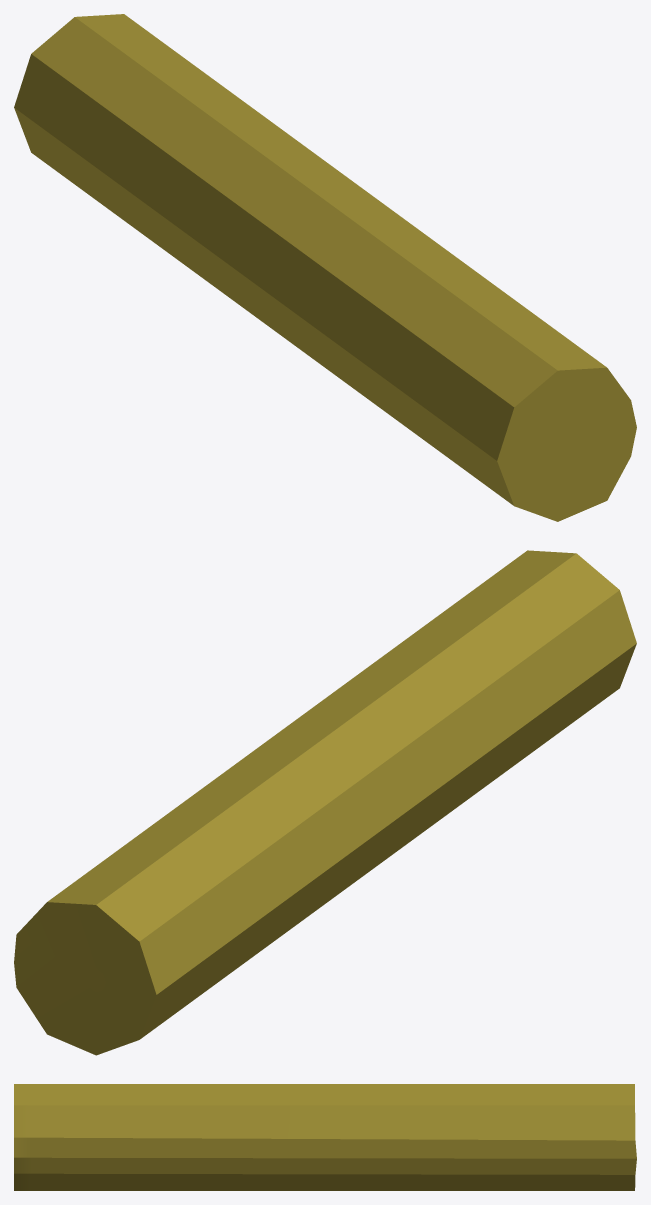
Rendered from Llave 2.fbx.
The picture shows the model from 3 angles, top to bottom: view 1: azimuth 30°, elevation 25°; view 2: azimuth 150°, elevation 25°; view 3: azimuth 270°, elevation 25°; orthographic projection. The views are drawn at different scales.
Parts seen in each view (by area): view 1: Llave_2; view 2: Llave_2; view 3: Llave_2.
Part boxes in pixels (left/top/right/bottom): Llave_2: left=14, top=14, right=636, bottom=521; Llave_2: left=14, top=550, right=636, bottom=1055; Llave_2: left=14, top=1084, right=636, bottom=1190.
Size of the model in its own units: 0.0895 by 0.0912 by 0.5292.
